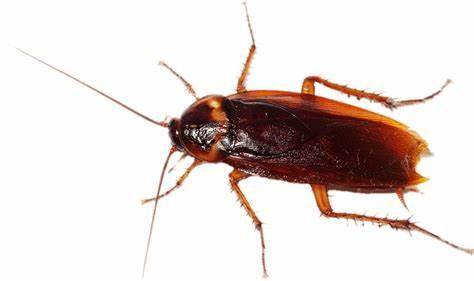cockroach: (158, 70, 434, 218)
